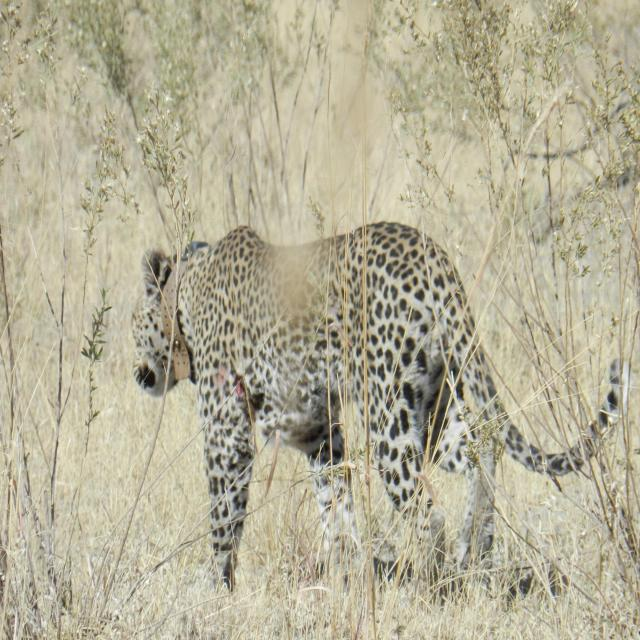Leopard: (118, 237, 636, 613)
